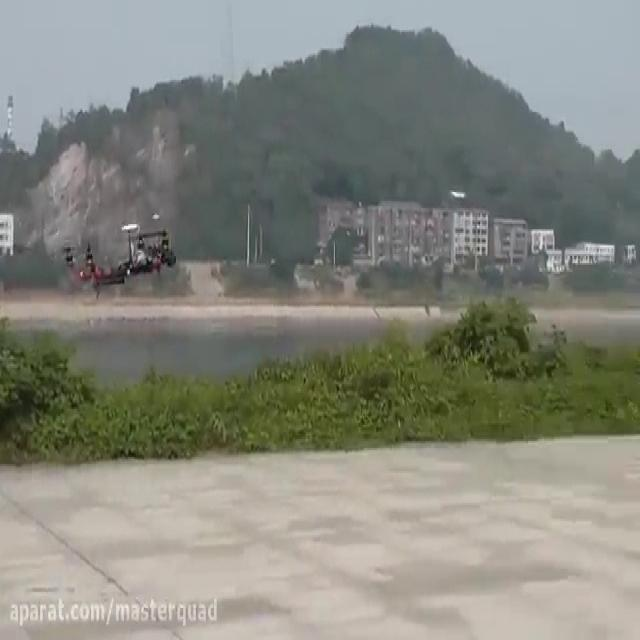drone: (60, 215, 178, 295)
